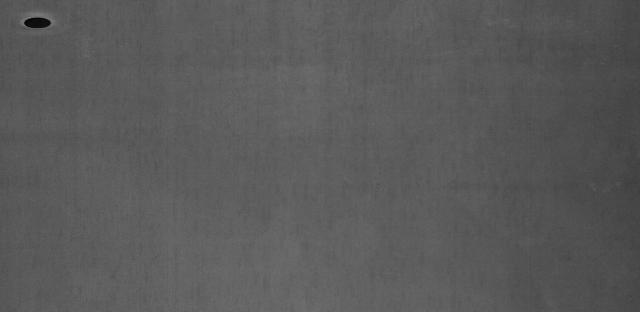punching_hole: (17, 14, 58, 34)
